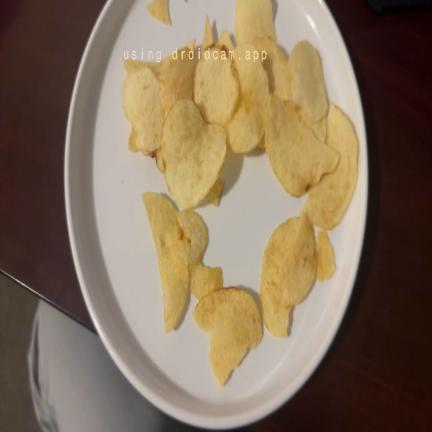chips: (143, 192, 208, 332), (124, 41, 194, 155), (266, 96, 338, 196), (162, 101, 226, 208), (304, 104, 358, 230), (194, 288, 262, 385), (261, 218, 316, 331), (124, 41, 194, 115), (143, 192, 208, 265), (227, 44, 269, 153), (194, 46, 239, 127), (124, 69, 165, 154), (288, 41, 328, 123), (159, 249, 189, 332), (254, 38, 290, 100), (160, 48, 194, 113), (142, 192, 177, 254), (174, 210, 208, 265), (235, 0, 275, 44), (260, 287, 291, 337), (191, 264, 222, 299), (297, 108, 326, 142), (124, 56, 173, 75), (130, 149, 166, 174), (317, 231, 335, 281), (147, 0, 170, 25), (202, 16, 214, 52), (208, 179, 224, 206), (218, 30, 234, 51), (129, 131, 139, 152)
plate: (65, 0, 367, 428)
